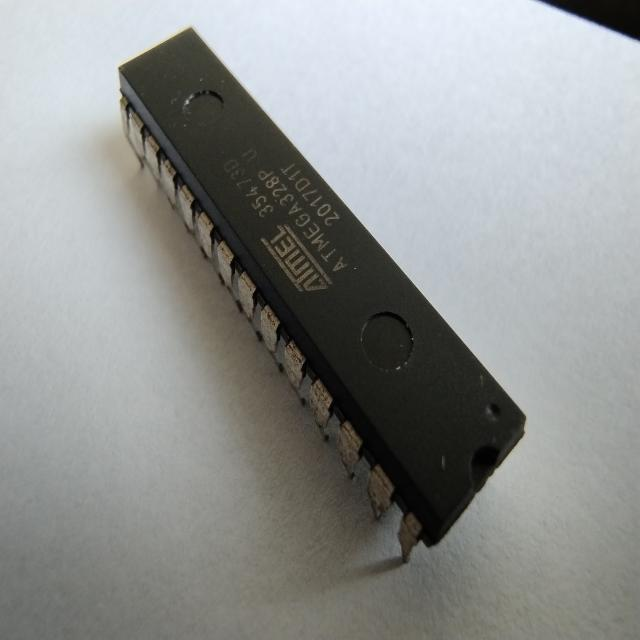atmega: (116, 23, 528, 564)
